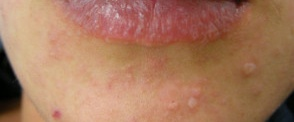SJS-TEN: (6, 0, 294, 122)
